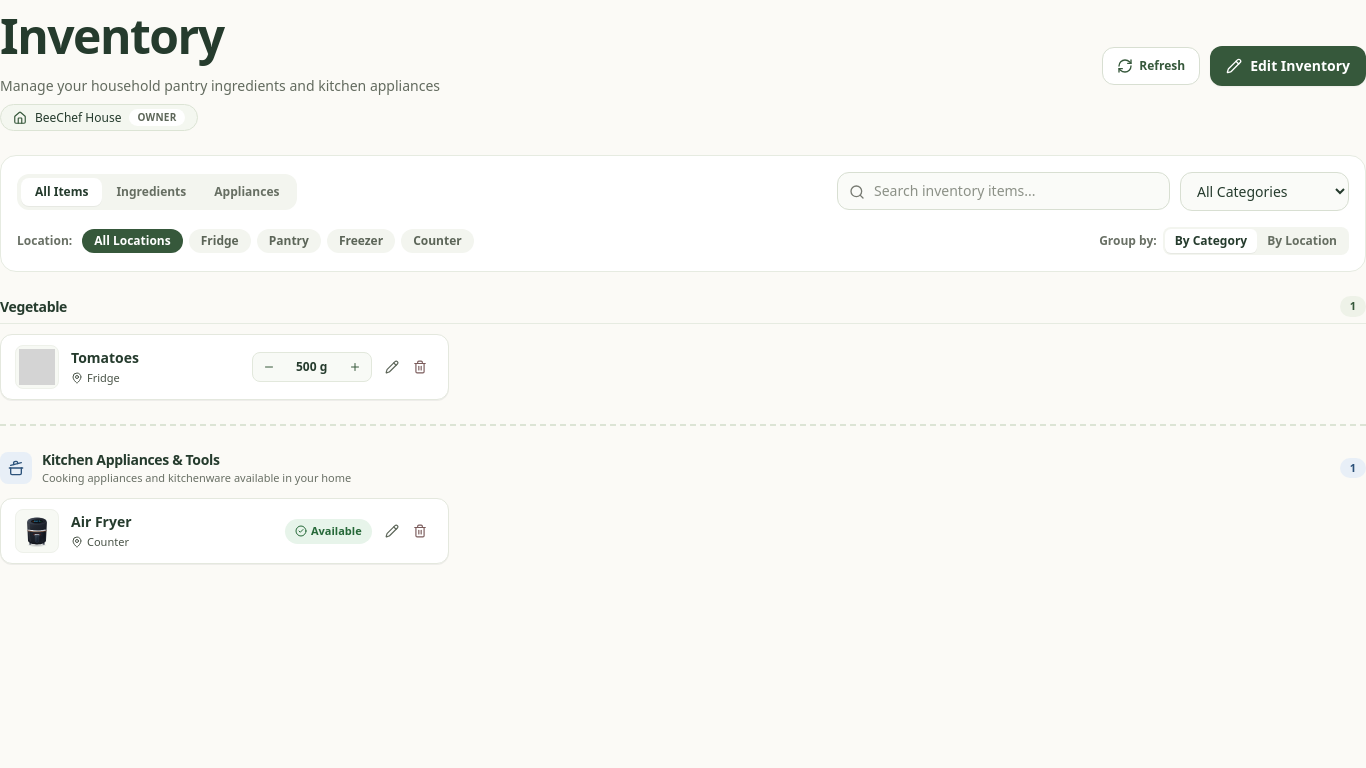
Test case: InventoryPage UI and API integration › deletes an item via Delete Item confirmation modal
The width and height of the screenshot is (1366, 768).
Expected: the heading "Tomatoes" is shown, [71,348,139,367]
# Click Delete on Tomatoes
Click the button named "Delete Tomatoes" at (420, 367), box [406,353,434,381]
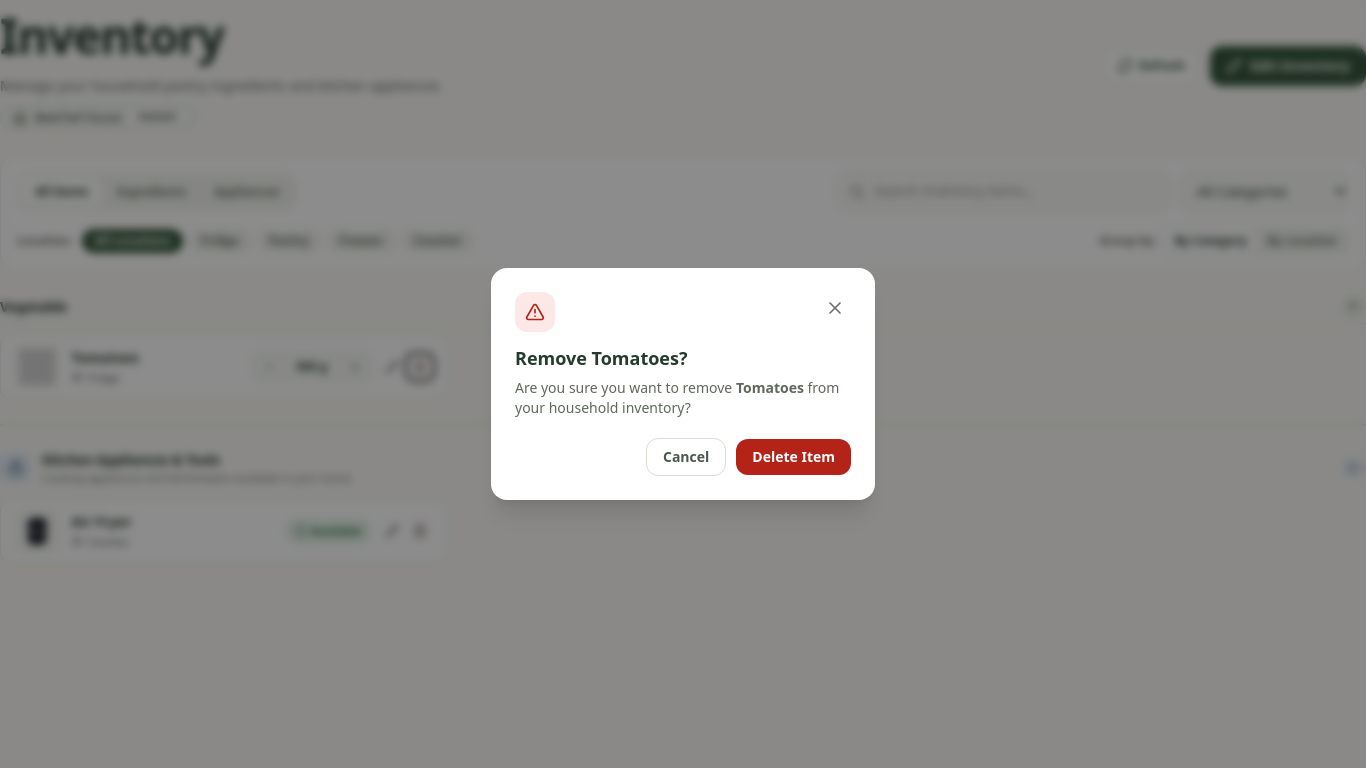
Click the button "Delete Item" at (794, 457), box [736,439,851,475]
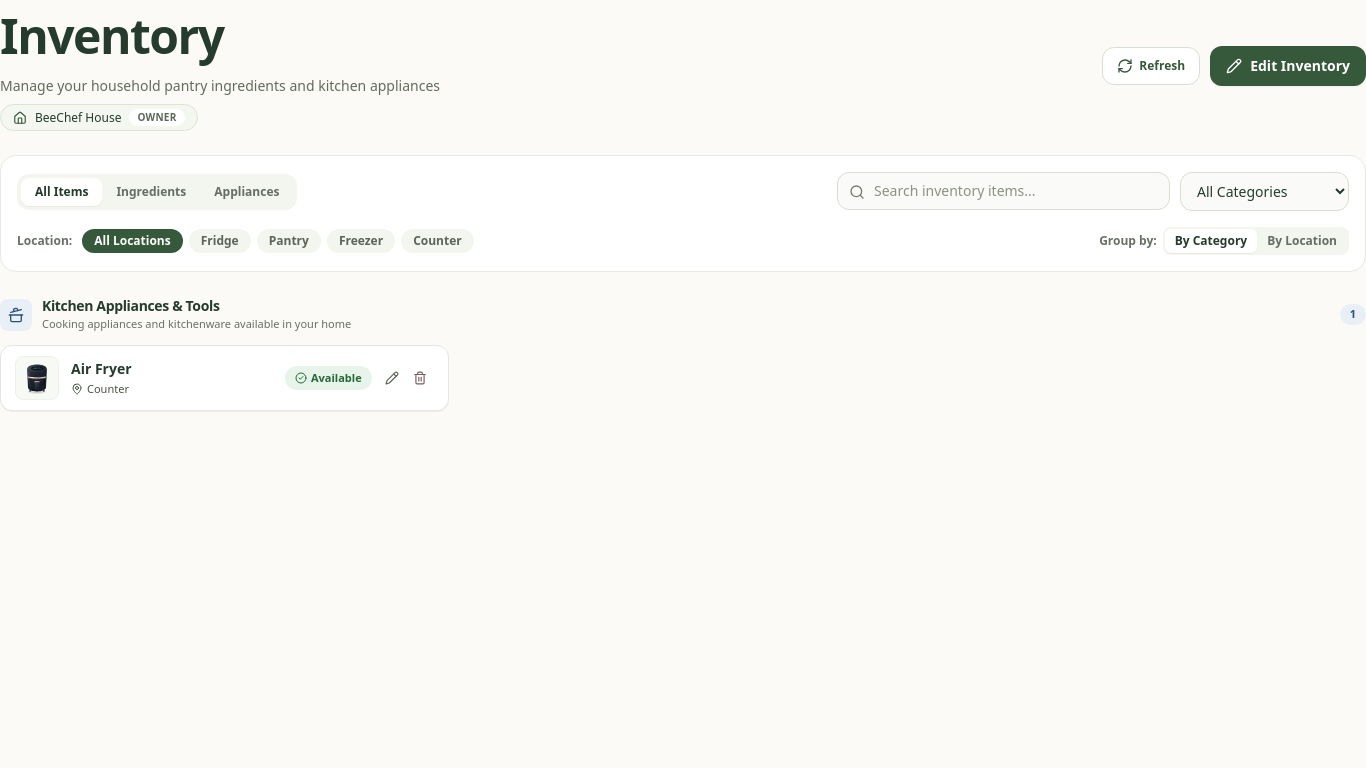
Result: the heading "Tomatoes" is gone
